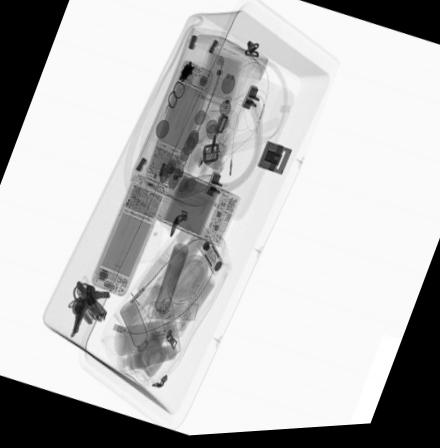Powerbank: (155, 169, 241, 252)
